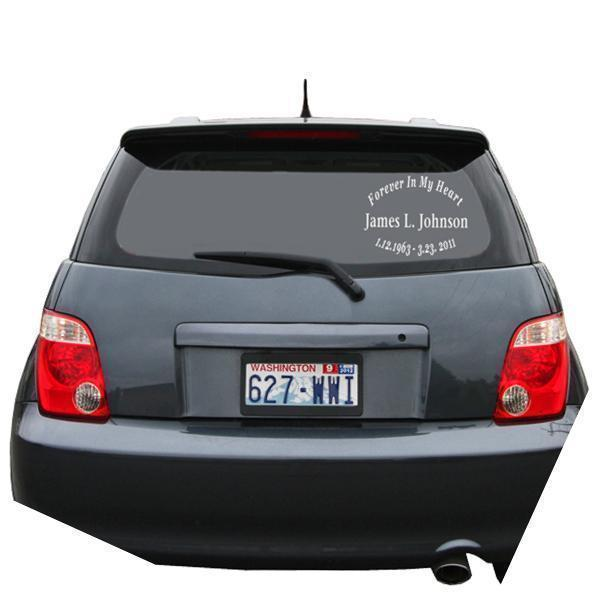placa de veiculo: (229, 340, 370, 417)
